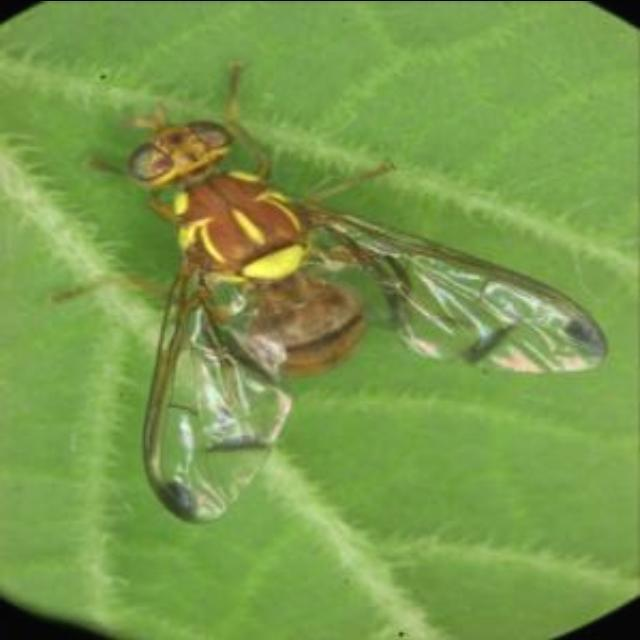melon fly: (42, 80, 620, 562)
